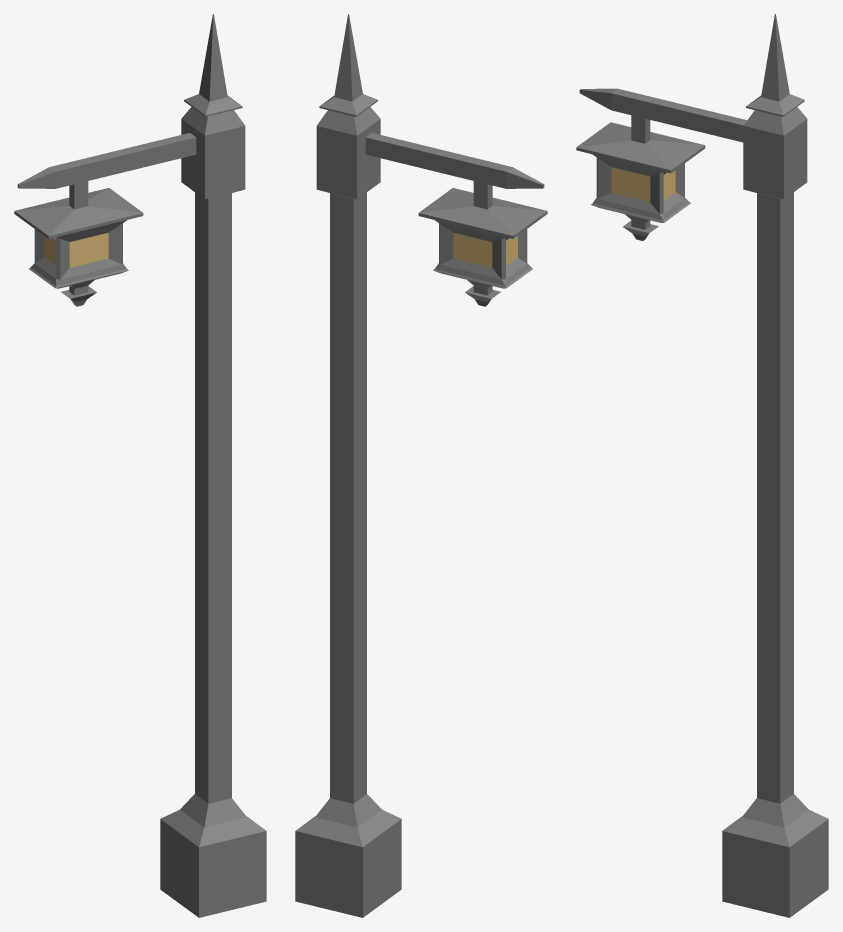
File: lamp.fbx
The picture shows the model from 3 angles, left to right: view 1: azimuth 30°, elevation 25°; view 2: azimuth 150°, elevation 25°; view 3: azimuth 330°, elevation 25°; orthographic projection.
Parts seen in each view (by area): view 1: Lamp1; view 2: Lamp1; view 3: Lamp1.
Part boxes in pixels (bbox=[...]): Lamp1: bbox=[14, 14, 266, 917]; Lamp1: bbox=[295, 14, 547, 917]; Lamp1: bbox=[576, 14, 828, 917].
Bounding box in the file's own units: 62.09 × 229 × 18.31.
